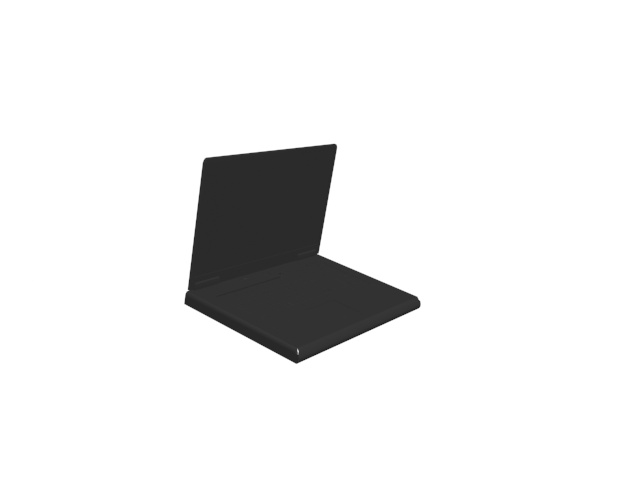laptop_computer: (185, 137, 424, 368)
